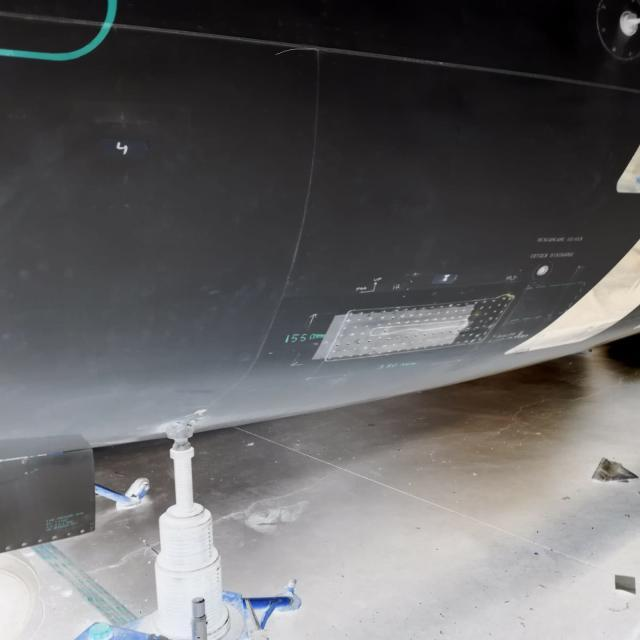crack: (277, 47, 322, 63)
